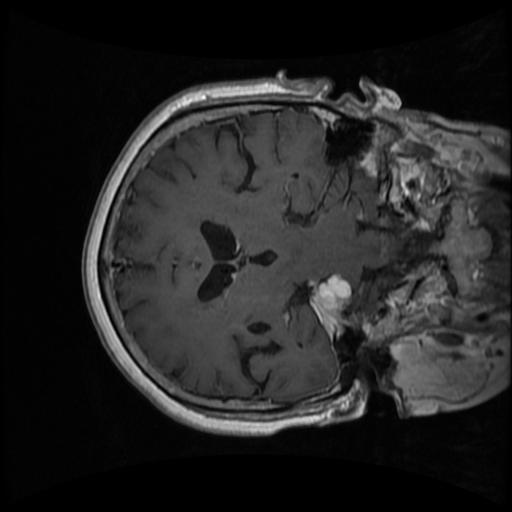meningioma: (309, 273, 351, 342)
